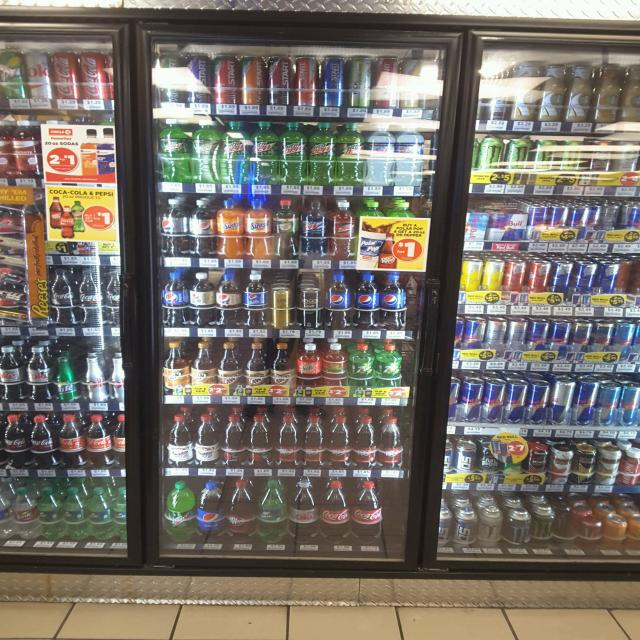empty: (383, 482, 414, 551)
